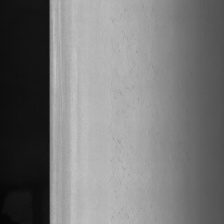silk_spot: (101, 12, 150, 224)
